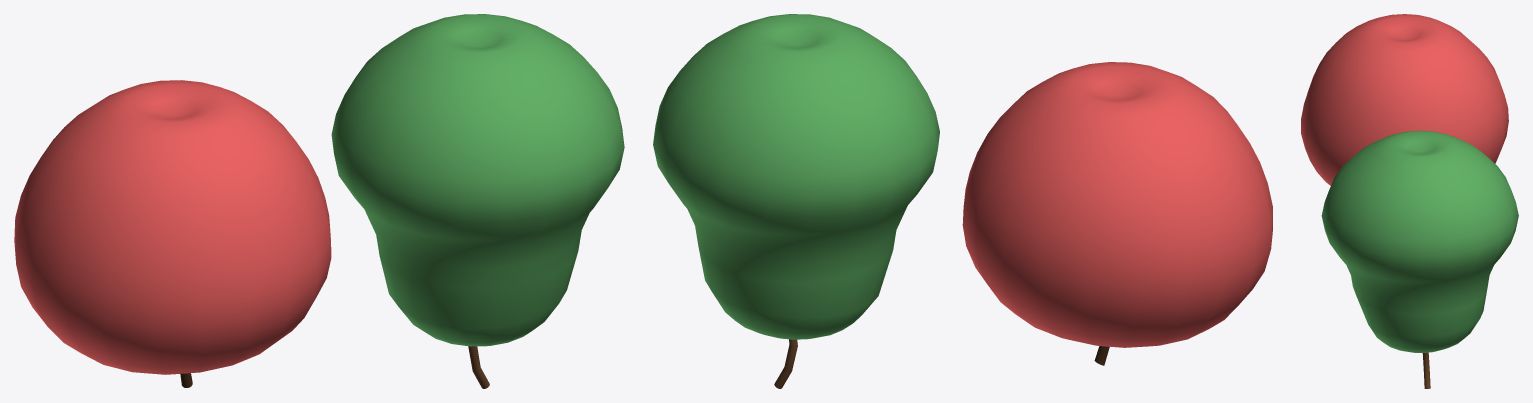
The model's file is Apfel_birne.fbx.
3 views of the same model, side by side, from view 1: azimuth 30°, elevation 25°; view 2: azimuth 150°, elevation 25°; view 3: azimuth 270°, elevation 25° (orthographic). The views are drawn at different scales.
Visible parts, largest first — view 1: pSphere2, pSphere3; view 2: pSphere2, pSphere3; view 3: pSphere3, pSphere2.
Part boxes in pixels (bbox=[...]): pSphere2: bbox=[14, 80, 331, 387]; pSphere3: bbox=[331, 14, 624, 388]; pSphere2: bbox=[962, 62, 1272, 365]; pSphere3: bbox=[653, 14, 939, 388]; pSphere3: bbox=[1321, 130, 1518, 388]; pSphere2: bbox=[1301, 14, 1508, 185].
Bounding box in the file's own units: 24.53 × 15.14 × 11.84.
